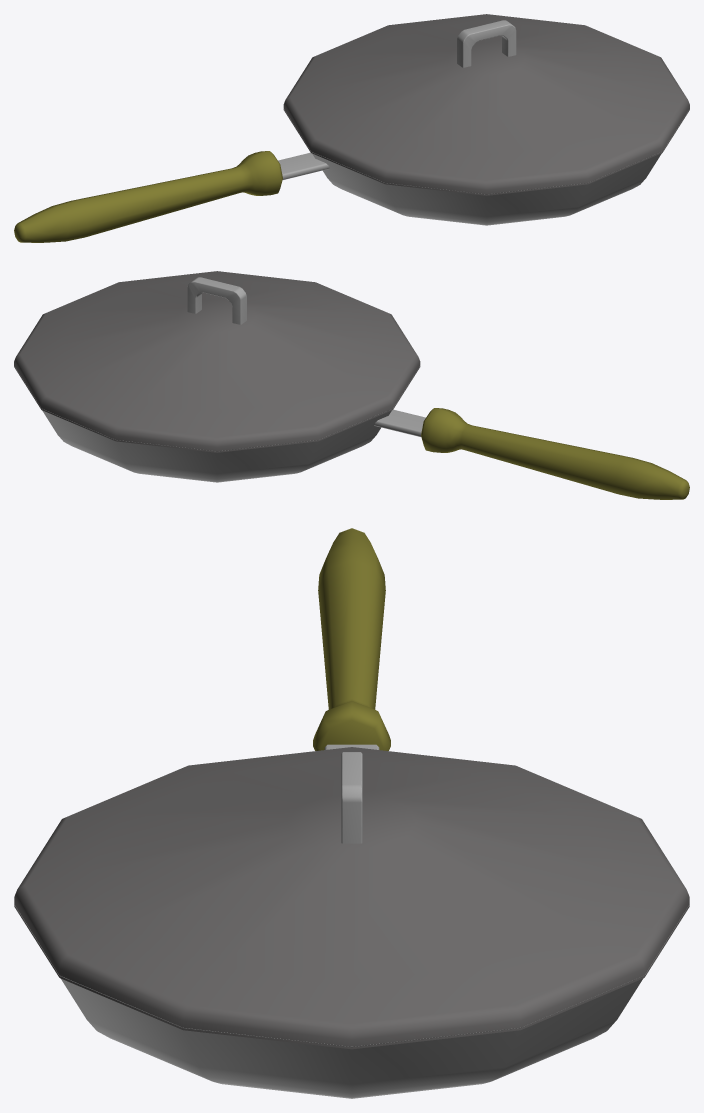
Rendered from Pan_2.glb.
3 views of the same model, one above another, from view 1: azimuth 30°, elevation 25°; view 2: azimuth 150°, elevation 25°; view 3: azimuth 270°, elevation 25° (orthographic). The views are drawn at different scales.
Parts seen in each view (by area): view 1: Pan_2; view 2: Pan_2; view 3: Pan_2.
Part boxes in pixels (left/top/right/bottom): Pan_2: left=14, top=14, right=689, bottom=242; Pan_2: left=14, top=271, right=689, bottom=499; Pan_2: left=14, top=528, right=689, bottom=1098.
Size of the model in its own units: 0.506 by 0.0991 by 0.2759.
1 material, 1 textured.
